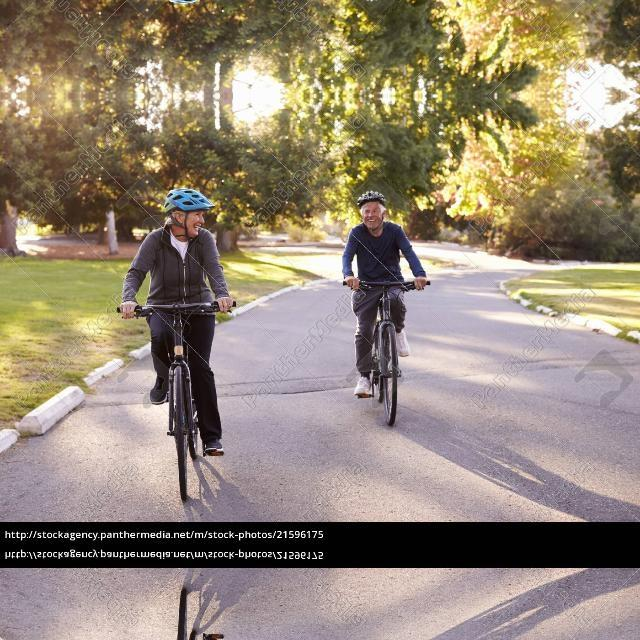obstacle: (117, 298, 257, 504), (342, 274, 434, 430), (117, 584, 257, 640)
